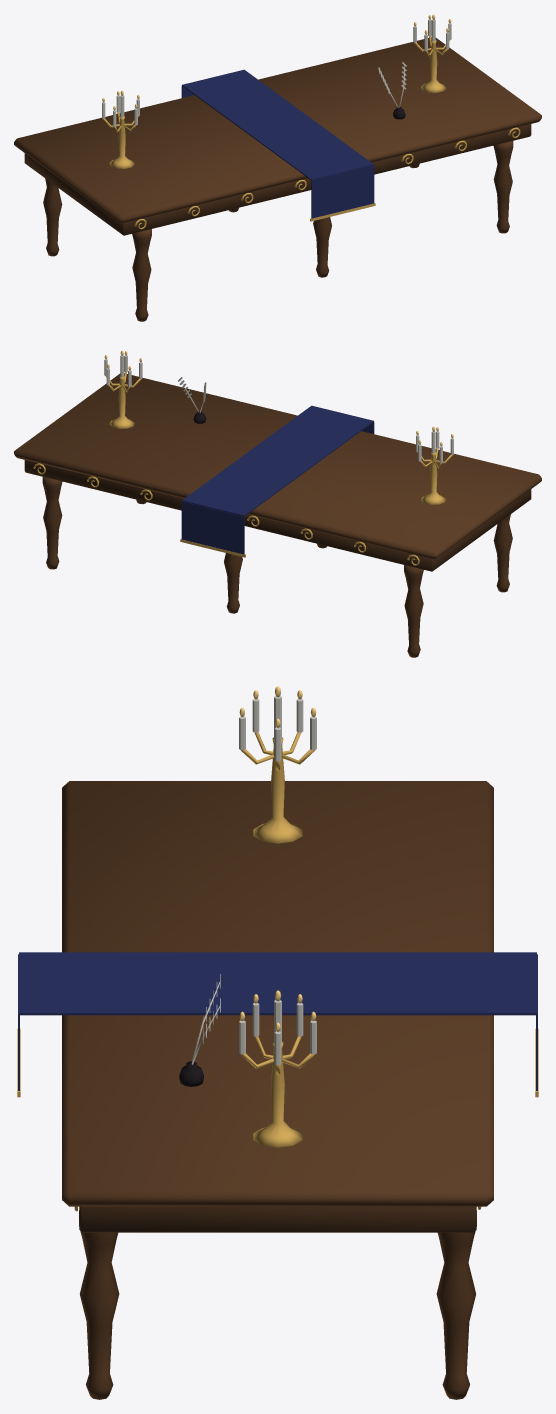
File: treaty_table.glb
3 views of the same model, one above another, from view 1: azimuth 30°, elevation 25°; view 2: azimuth 150°, elevation 25°; view 3: azimuth 270°, elevation 25° (orthographic). The views are drawn at different scales.
Parts seen in each view (by area): view 1: treaty_table; view 2: treaty_table; view 3: treaty_table.
Part boxes in pixels (x1,y1,x2,y2): treaty_table: (14, 14, 541, 321); treaty_table: (14, 350, 541, 657); treaty_table: (17, 686, 538, 1399).
Size of the model in its own units: 3.4 by 1.46 by 1.81.
